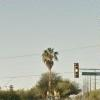Palm tree: (35, 38, 60, 90)
